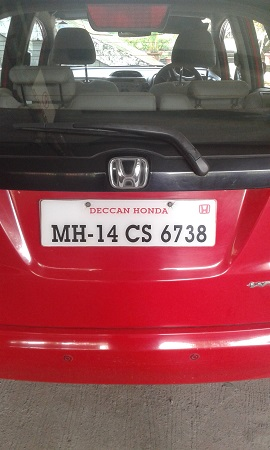licenseplate: (38, 196, 219, 249)
